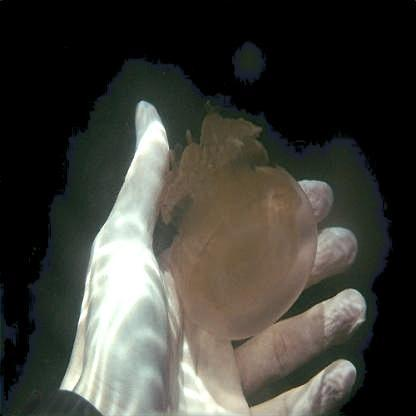Handstand: (159, 98, 317, 342)
